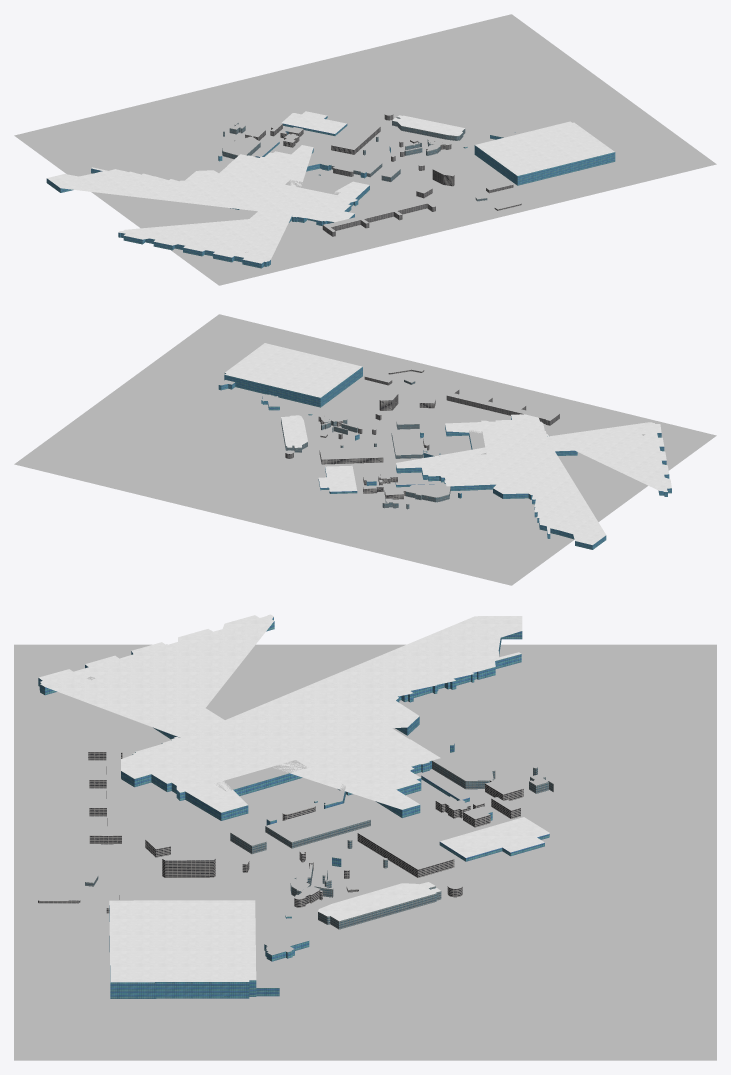
Rendered from londonAirport.fbx.
3 renders of one model, top to bottom at view 1: azimuth 30°, elevation 25°; view 2: azimuth 150°, elevation 25°; view 3: azimuth 270°, elevation 25°, orthographic. The views are drawn at different scales.
Visible parts, largest first — view 1: EXPORT_GOOGLE_SAT_WM, Roof, Areas:building; view 2: EXPORT_GOOGLE_SAT_WM, Roof, Areas:building; view 3: EXPORT_GOOGLE_SAT_WM, Roof, Areas:building.
Part boxes in pixels (bbox=[...]): EXPORT_GOOGLE_SAT_WM: bbox=[14, 14, 716, 285]; Roof: bbox=[47, 111, 614, 263]; Areas:building: bbox=[46, 114, 615, 268]; EXPORT_GOOGLE_SAT_WM: bbox=[14, 314, 716, 585]; Roof: bbox=[219, 343, 671, 544]; Areas:building: bbox=[218, 367, 671, 549]; EXPORT_GOOGLE_SAT_WM: bbox=[14, 644, 716, 1060]; Roof: bbox=[38, 614, 553, 987]; Areas:building: bbox=[38, 617, 553, 998].
Bounding box in the file's own units: 225236 × 4200 × 152874.
